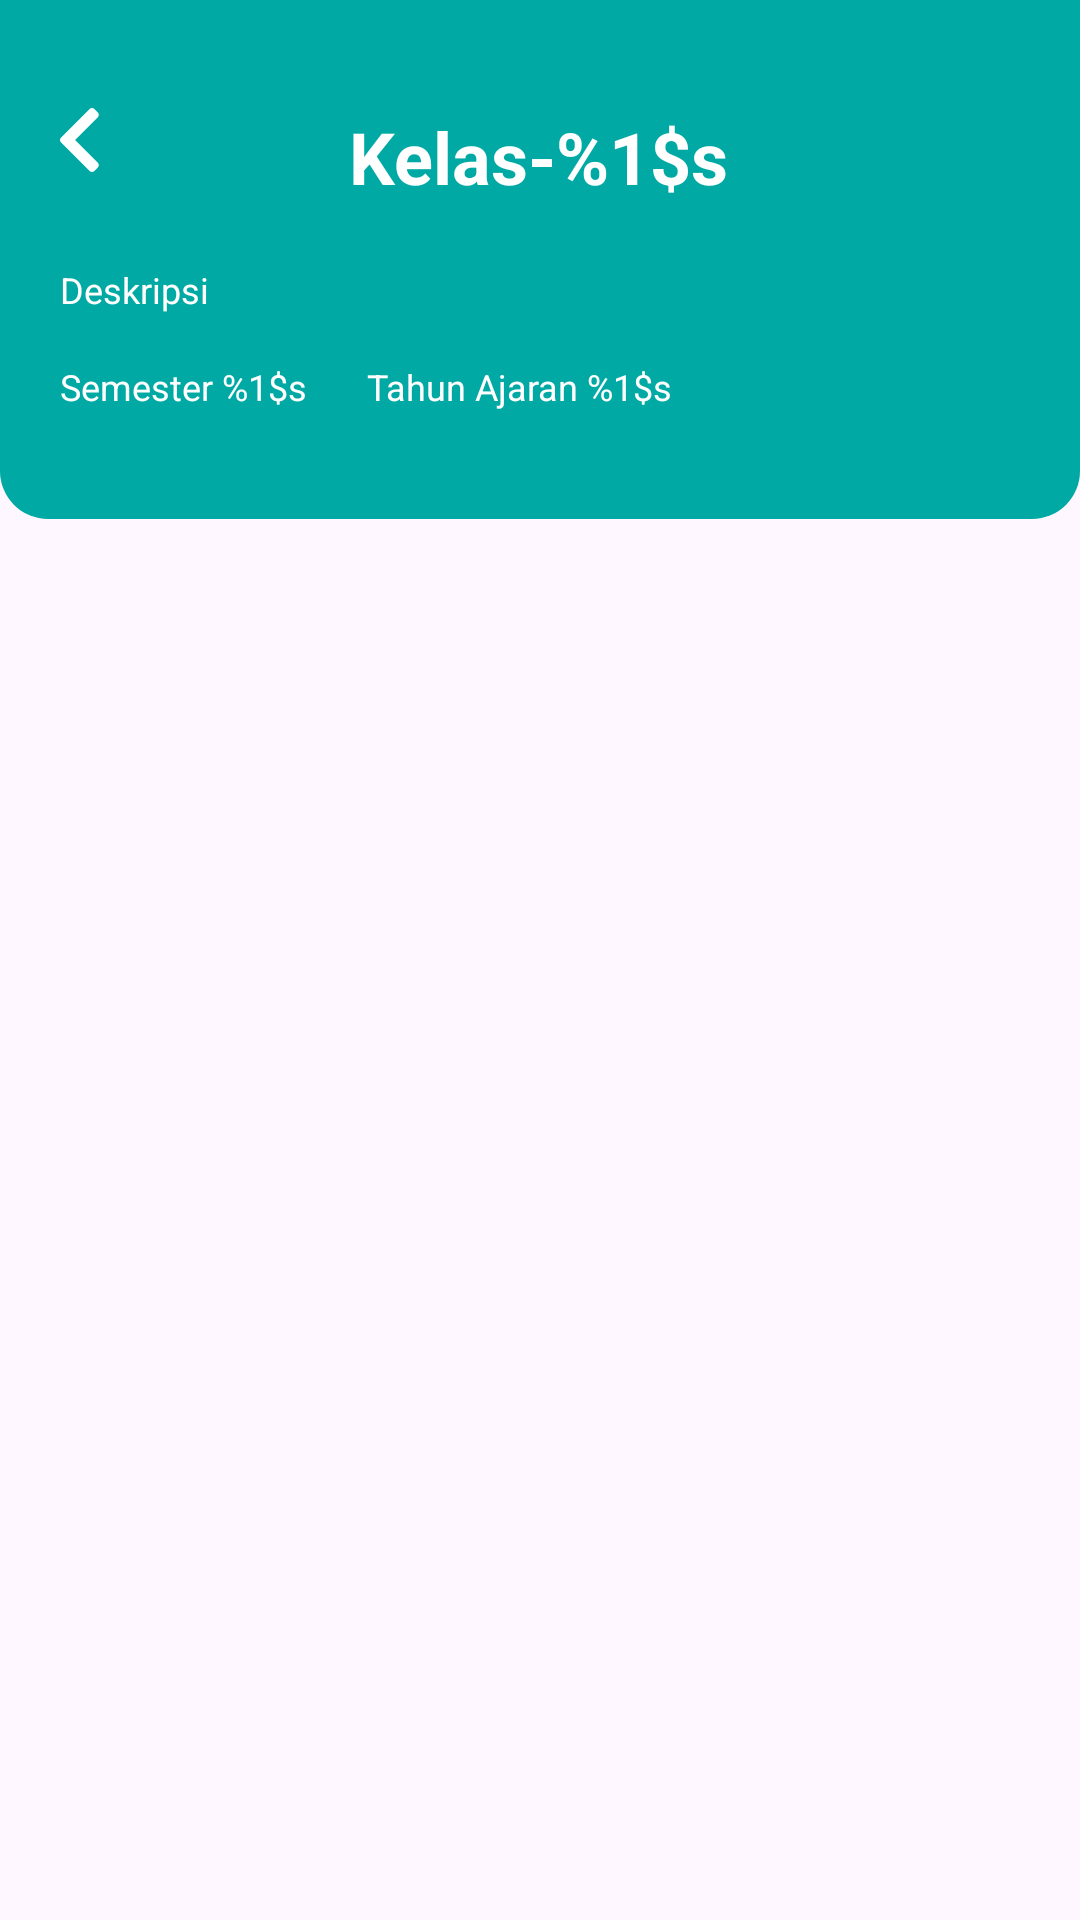

Screen size 1080×1920. Icon name, then its center in pixels as (x,y):
back: (79,140)
